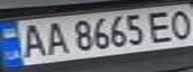5: (124, 11, 151, 46)
6: (90, 15, 112, 51), (109, 14, 130, 48)
8: (69, 17, 93, 52)
A: (15, 20, 48, 58), (39, 19, 69, 56)
E: (145, 8, 178, 44)
O: (166, 7, 193, 40)
